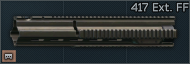HK417 Extended Free Float handguard with flip up front sight: (0, 0, 190, 64)
